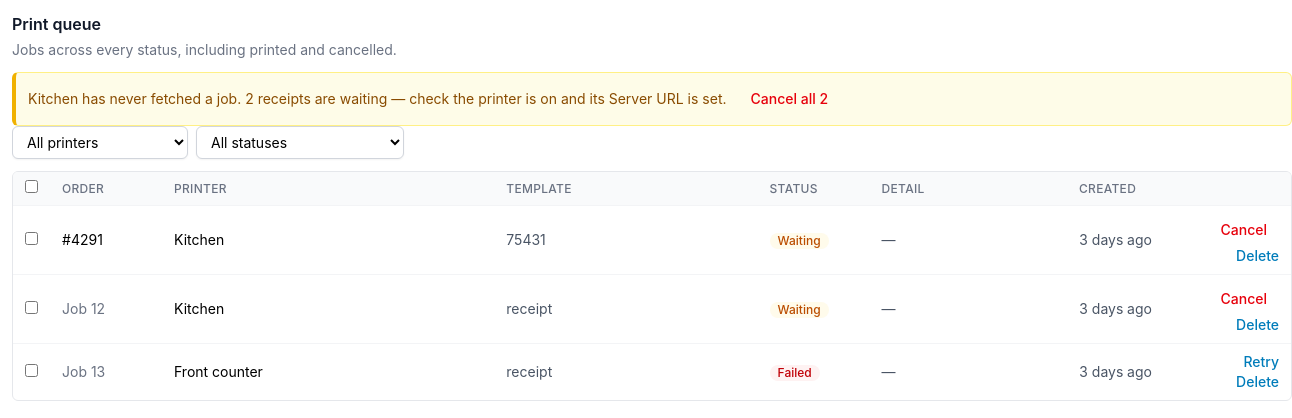
Test: PrintQueue › treats an already-retried response as success and updates the cached row
Click the button with test id "queue-retry-13": (1261, 362) [1243, 352, 1279, 372]
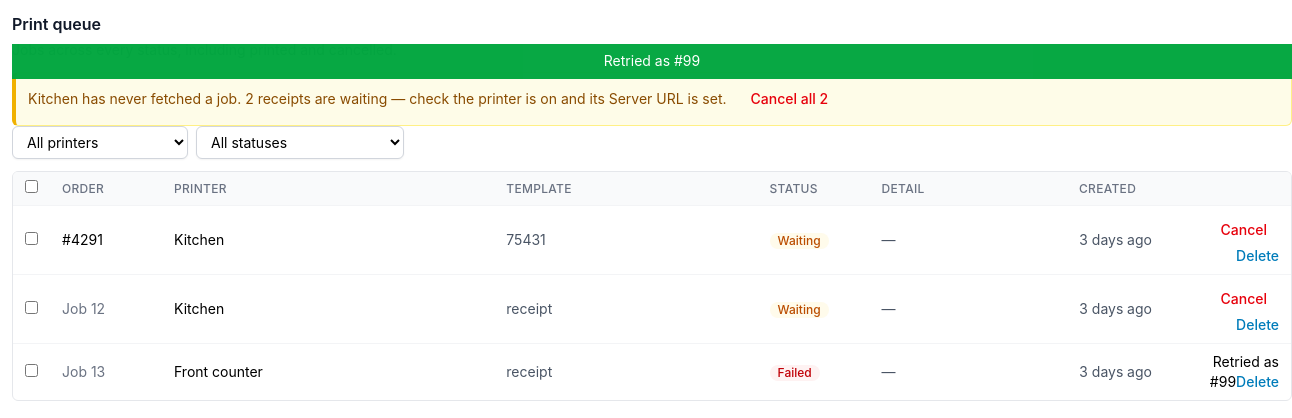
Now the row with test id "queue-row-13" shows "Retried as #99", box [1210, 353, 1279, 390]
Now the button with test id "queue-retry-13" is gone
